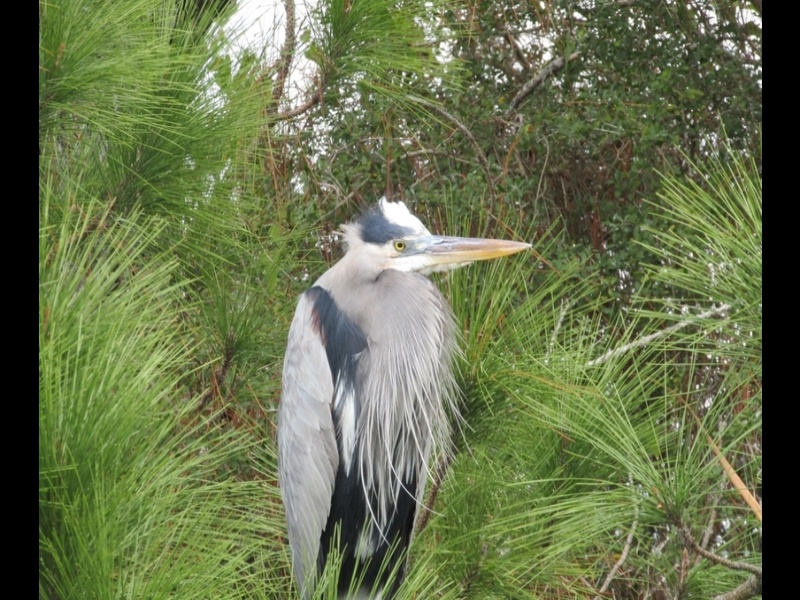heron: (277, 194, 538, 594)
